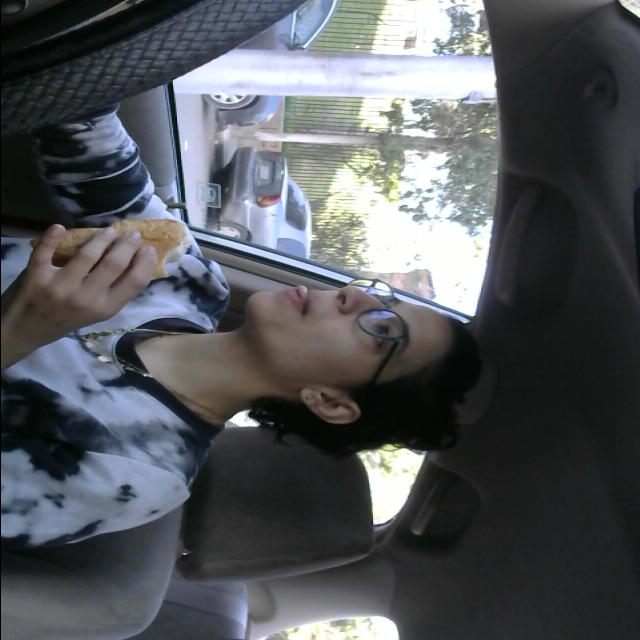eating: (27, 211, 196, 282)
